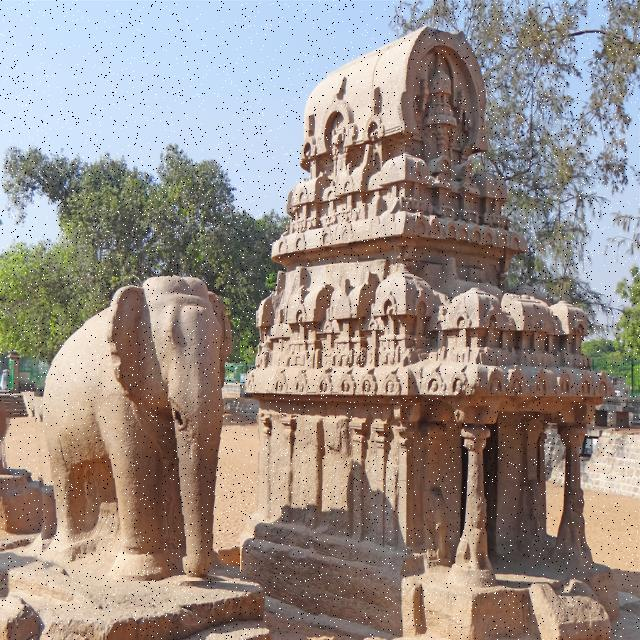elephant: (27, 253, 240, 581), (0, 394, 13, 479)
